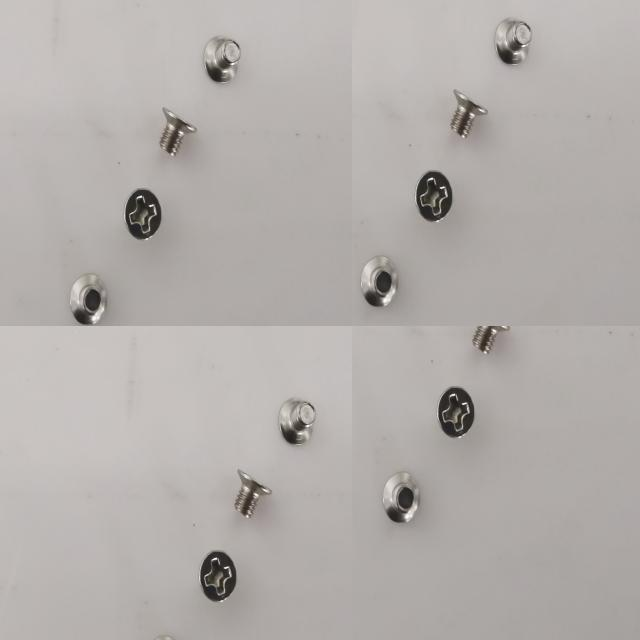Screw: (67, 334, 201, 443), (381, 465, 423, 528), (436, 381, 478, 442), (470, 326, 514, 359)
